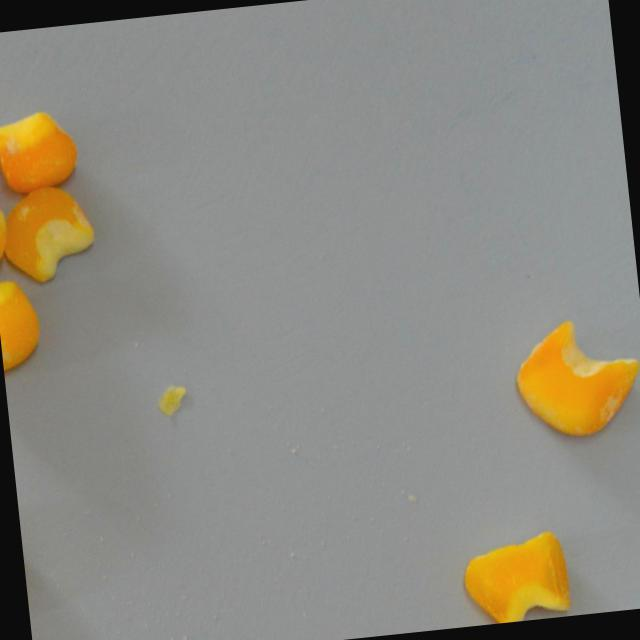no_canjicado: (455, 523, 577, 627)
pelicula: (511, 306, 640, 445), (0, 176, 102, 289), (0, 103, 84, 201), (0, 273, 48, 379), (0, 195, 14, 276)
